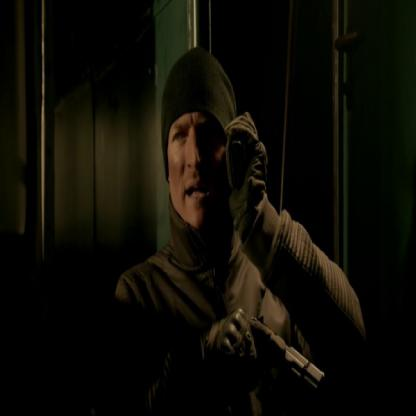Guns: (252, 310, 328, 411)
